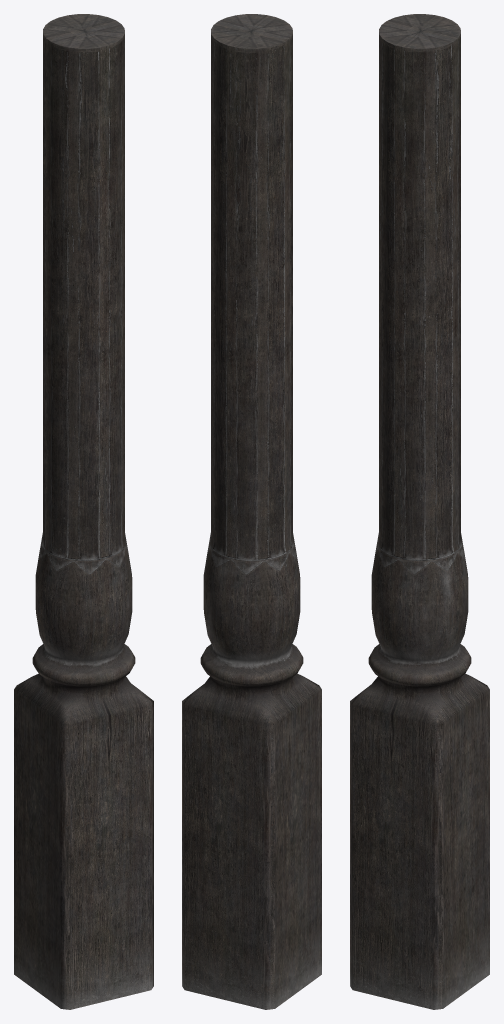
The model's file is SM_SculptedPost.fbx.
The picture shows the model from 3 angles, left to right: view 1: azimuth 30°, elevation 25°; view 2: azimuth 150°, elevation 25°; view 3: azimuth 330°, elevation 25°; orthographic projection.
Visible parts, largest first — view 1: SM_SculptedPost_LOD0; view 2: SM_SculptedPost_LOD0; view 3: SM_SculptedPost_LOD0.
Part boxes in pixels (x1=…): SM_SculptedPost_LOD0: x1=14, y1=14, x2=153, y2=1009; SM_SculptedPost_LOD0: x1=182, y1=14, x2=321, y2=1009; SM_SculptedPost_LOD0: x1=350, y1=14, x2=489, y2=1009.
Bounding box in the file's own units: 29.66 × 29.66 × 290.
